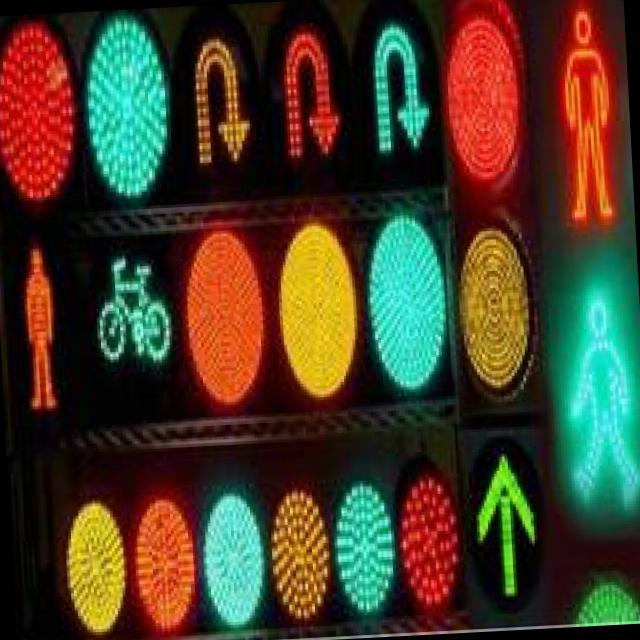green-lights: (362, 206, 453, 414), (75, 8, 173, 198), (196, 475, 268, 640), (336, 478, 394, 618)
red-lights: (178, 209, 274, 450), (438, 0, 529, 199), (0, 12, 84, 205), (129, 468, 195, 640), (398, 480, 462, 623)
yellow-lights: (272, 202, 368, 429), (452, 199, 536, 403), (56, 472, 133, 640), (272, 491, 333, 620)
